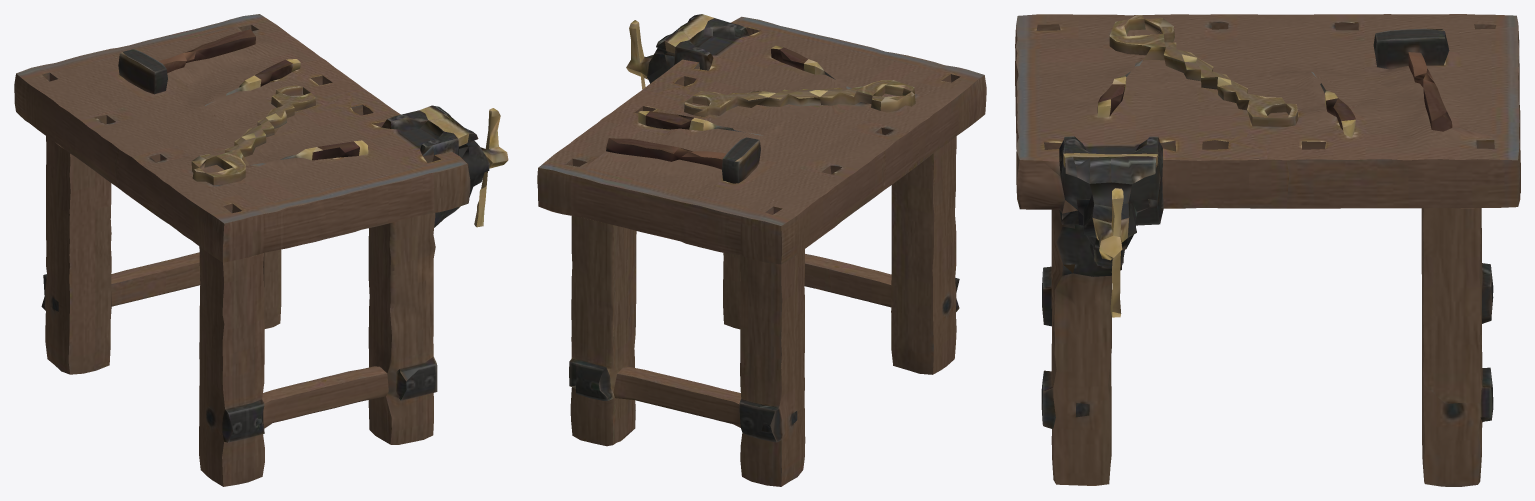
File: etabli.glb
The picture shows the model from 3 angles, left to right: view 1: azimuth 30°, elevation 25°; view 2: azimuth 150°, elevation 25°; view 3: azimuth 270°, elevation 25°; orthographic projection. The views are drawn at different scales.
Parts seen in each view (by area): view 1: etabli; view 2: etabli; view 3: etabli.
Part boxes in pixels (left/top/right/bottom): etabli: left=14, top=14, right=508, bottom=486; etabli: left=537, top=14, right=986, bottom=486; etabli: left=1015, top=14, right=1520, bottom=486.
Bounding box in the file's own units: 1.1 × 1 × 1.24.
1 material, 1 textured.
